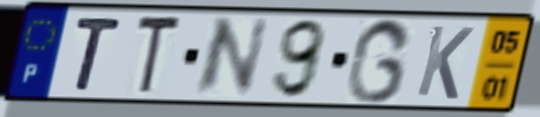9: (267, 17, 331, 101)
G: (342, 16, 416, 106)
K: (412, 22, 477, 103)
N: (188, 15, 274, 99)
T: (133, 12, 185, 99), (72, 14, 126, 94)
